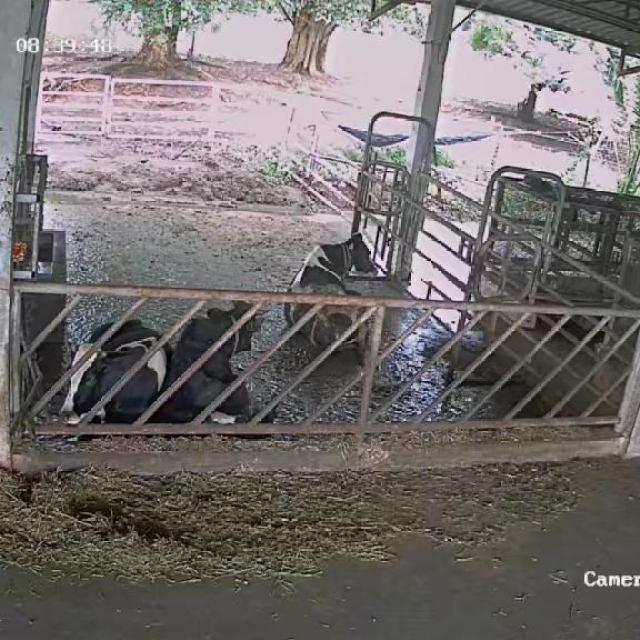lying down: (173, 297, 276, 433), (62, 316, 176, 434), (281, 228, 381, 354)
